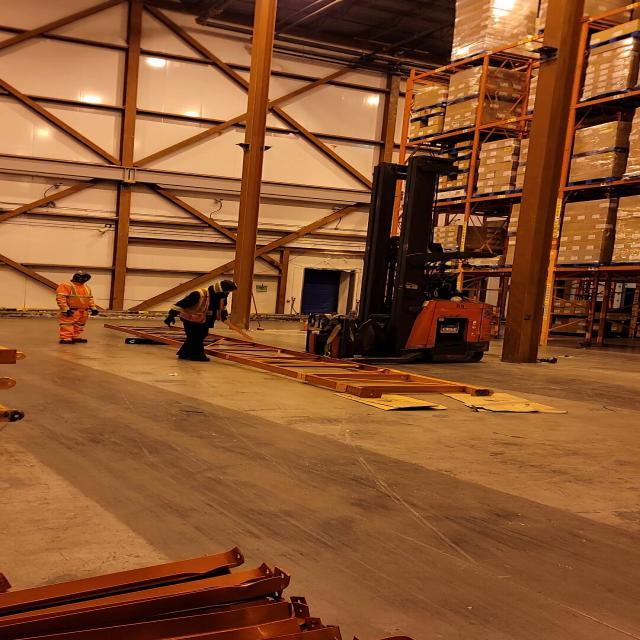forklift: (296, 161, 497, 365)
human: (163, 273, 236, 362), (49, 270, 102, 345)
objectofinterest: (96, 321, 498, 400), (438, 386, 569, 415), (331, 389, 458, 414), (123, 334, 160, 346)
